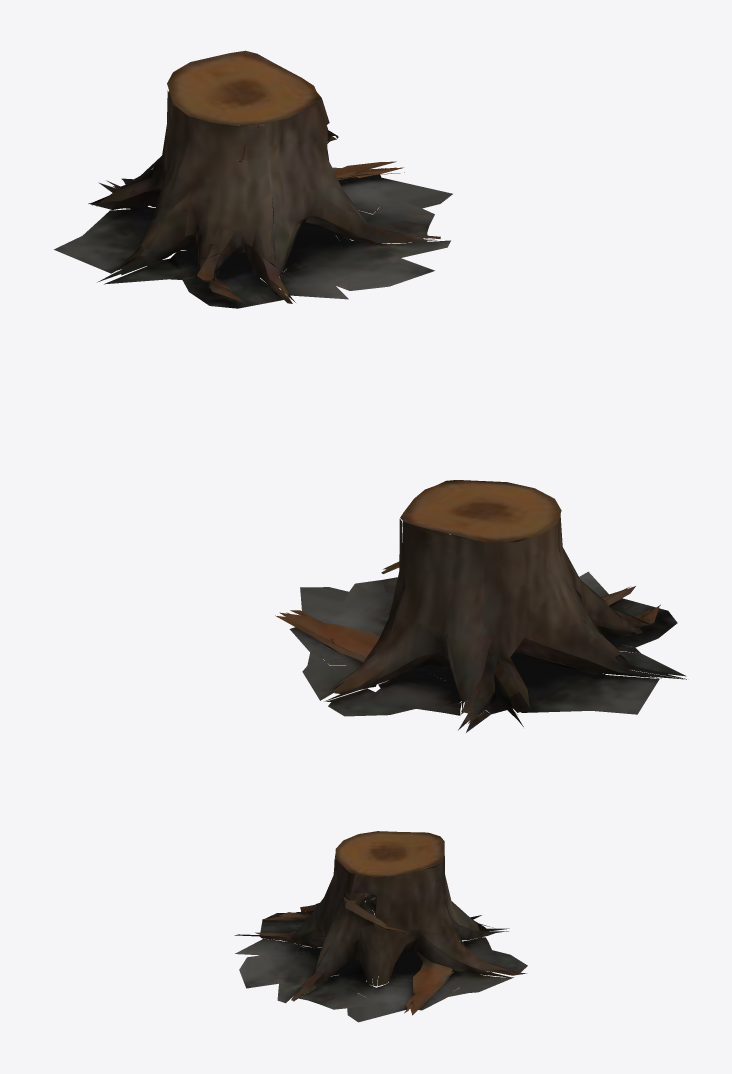
Rendered from cacto_colunar_toco.glb.
3 views of the same model, one above another, from view 1: azimuth 30°, elevation 25°; view 2: azimuth 150°, elevation 25°; view 3: azimuth 270°, elevation 25° (orthographic). The views are drawn at different scales.
Parts seen in each view (by area): view 1: geometry_0; view 2: geometry_0; view 3: geometry_0.
Part boxes in pixels (left/top/right/bottom): geometry_0: left=54, top=50, right=452, bottom=308; geometry_0: left=275, top=480, right=686, bottom=732; geometry_0: left=234, top=831, right=527, bottom=1022.
Bounding box in the file's own units: 0.5347 × 0.1602 × 0.944.
Materials: 1 (1 with a texture image).
